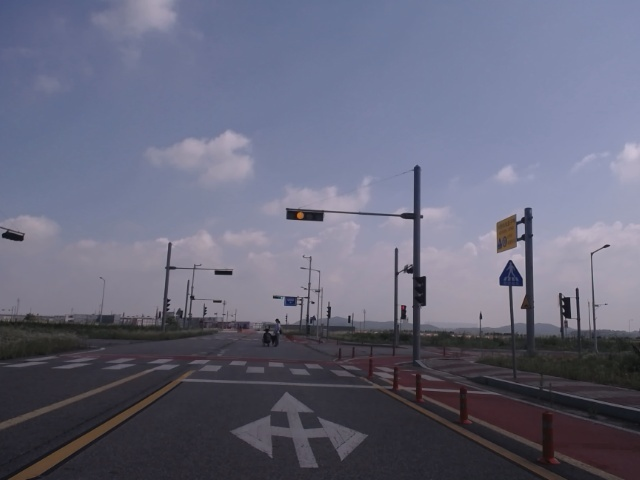orange_4: (286, 208, 326, 221)
